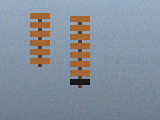defect: (70, 78, 90, 86)
insulator: (68, 14, 92, 89), (28, 11, 52, 68)
